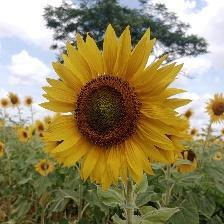sunflower: (40, 22, 195, 194)
